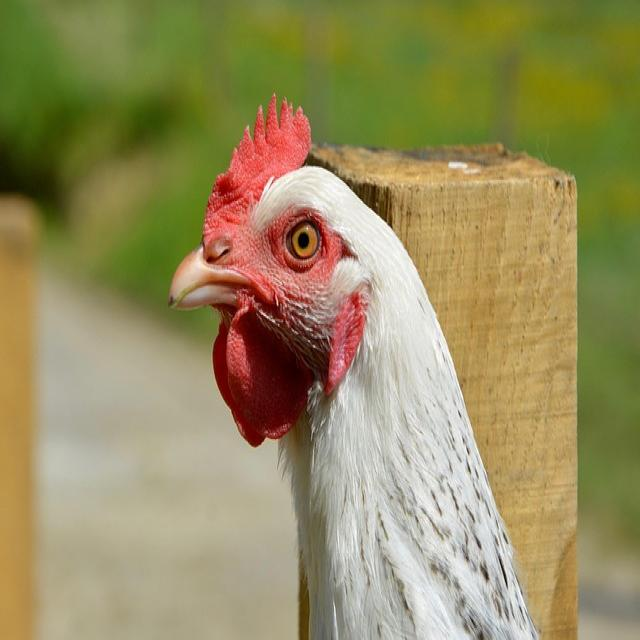Chicken: (158, 84, 549, 640)
